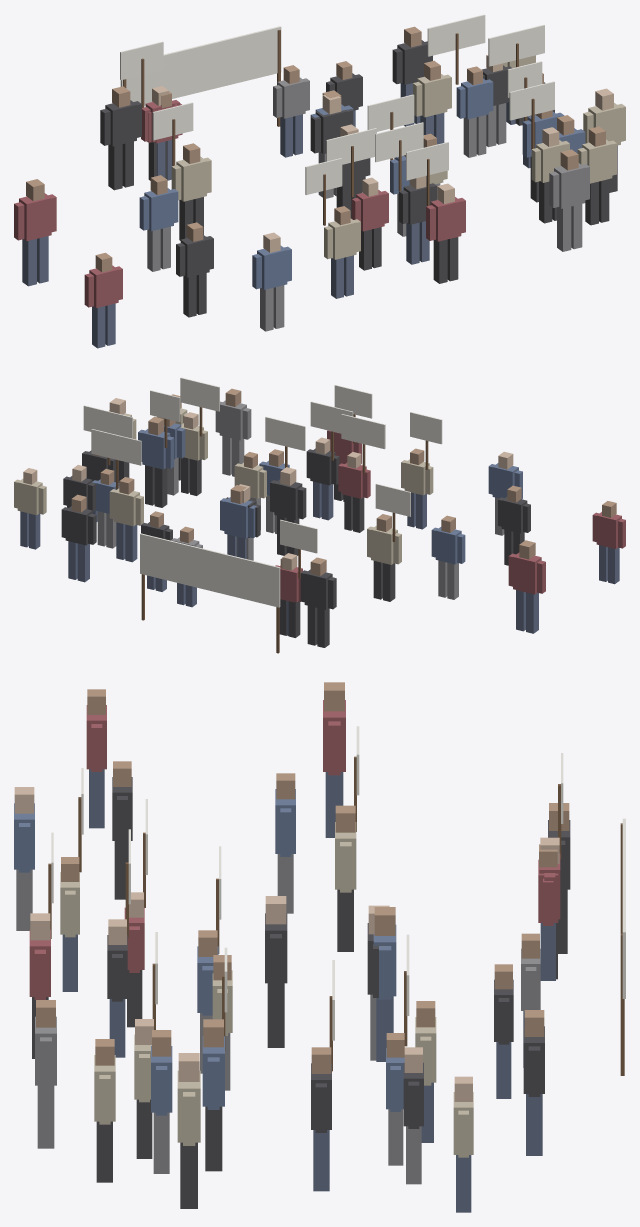
File: SM_Multitud_Protesta.fbx
3 renders of one model, top to bottom at view 1: azimuth 30°, elevation 25°; view 2: azimuth 150°, elevation 25°; view 3: azimuth 270°, elevation 25°, orthographic. The views are drawn at different scales.
Visible parts, largest first — view 1: SM_Multitud_Protesta; view 2: SM_Multitud_Protesta; view 3: SM_Multitud_Protesta.
Part boxes in pixels (box(x1,y1,x2,y2)): SM_Multitud_Protesta: box(14, 14, 625, 348); SM_Multitud_Protesta: box(14, 377, 625, 653); SM_Multitud_Protesta: box(14, 682, 625, 1212).
Bounding box in the file's own units: 11.85 × 2.62 × 7.5.
